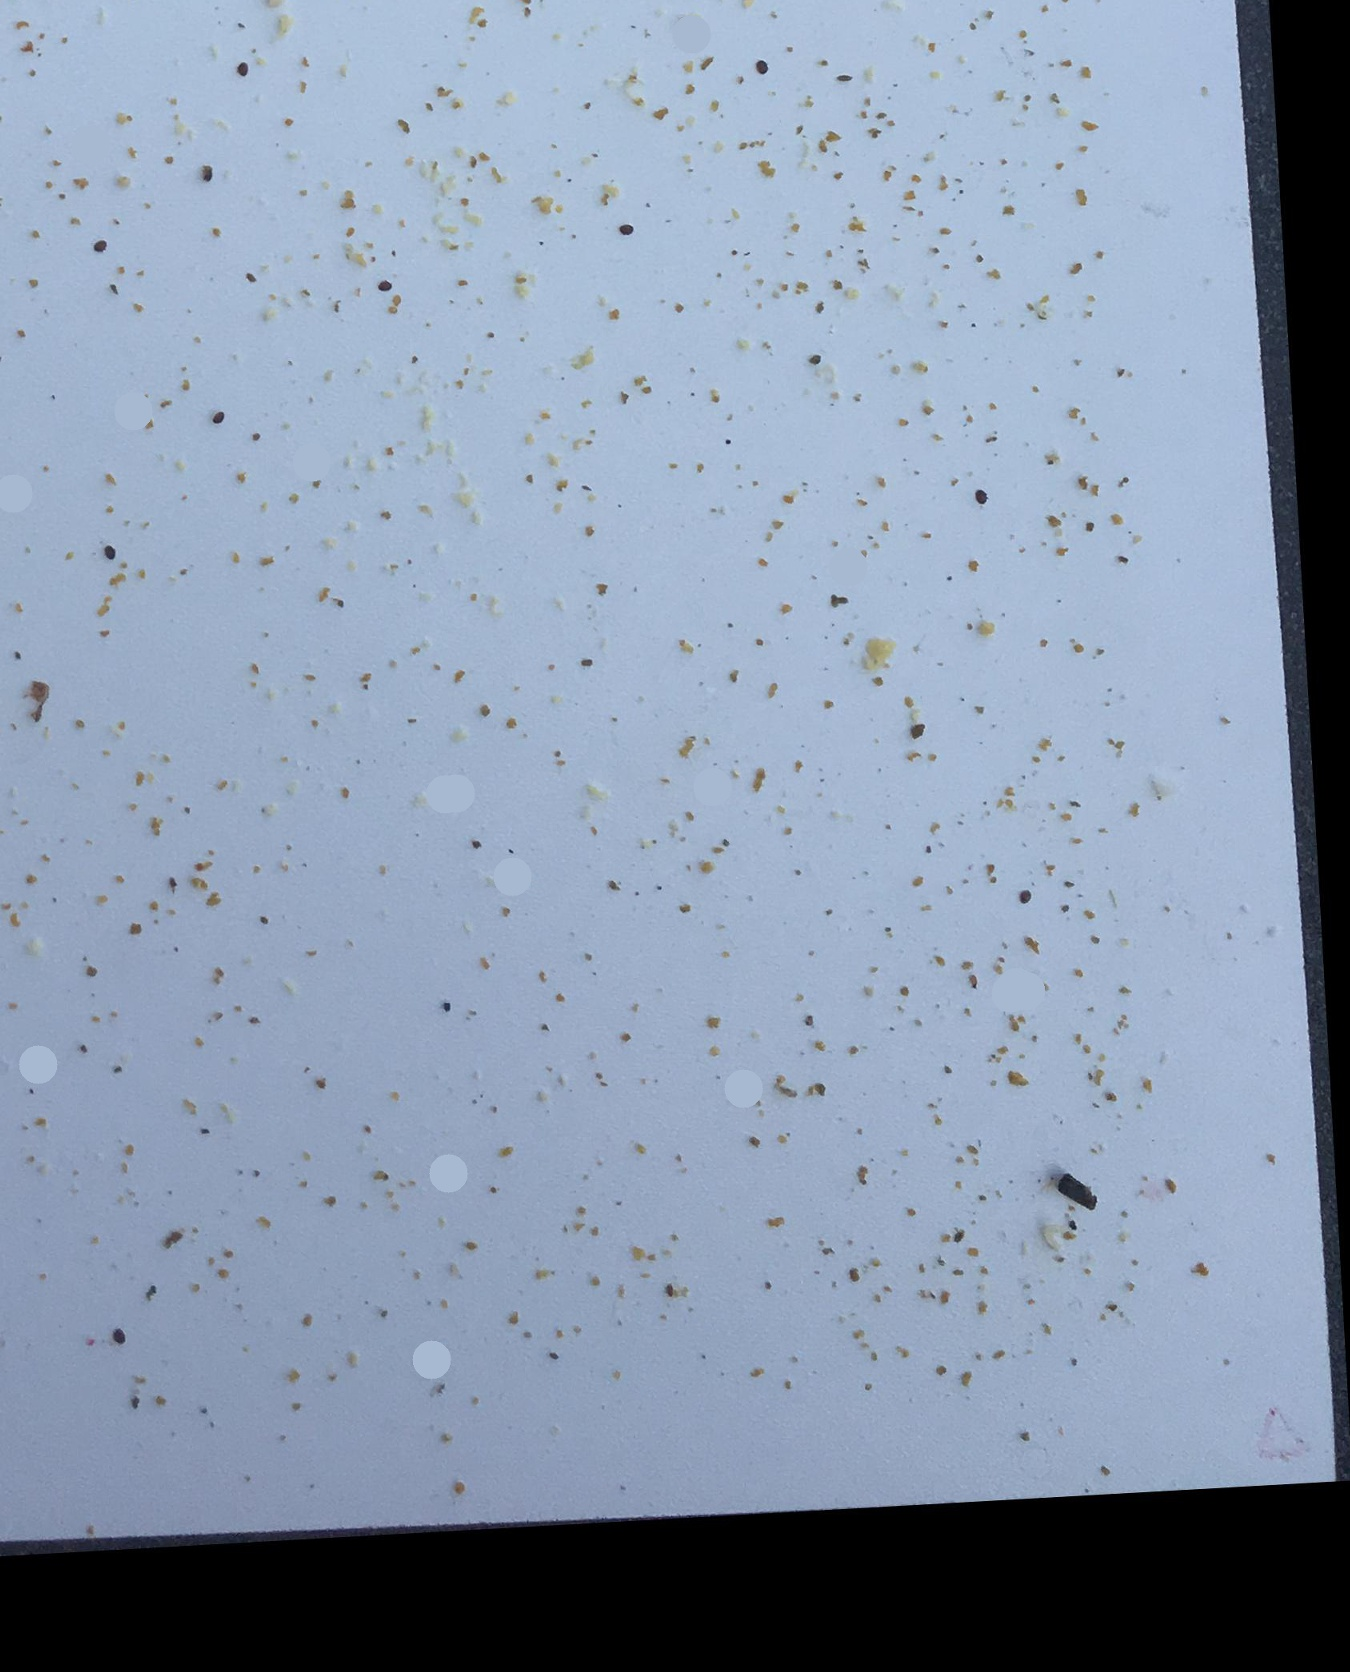Varroa: (110, 1329, 127, 1347), (973, 489, 989, 505), (209, 410, 226, 427), (754, 55, 770, 72), (377, 278, 394, 295), (236, 62, 252, 79), (102, 544, 117, 561), (1017, 888, 1032, 905), (619, 220, 634, 236), (94, 238, 107, 252)
